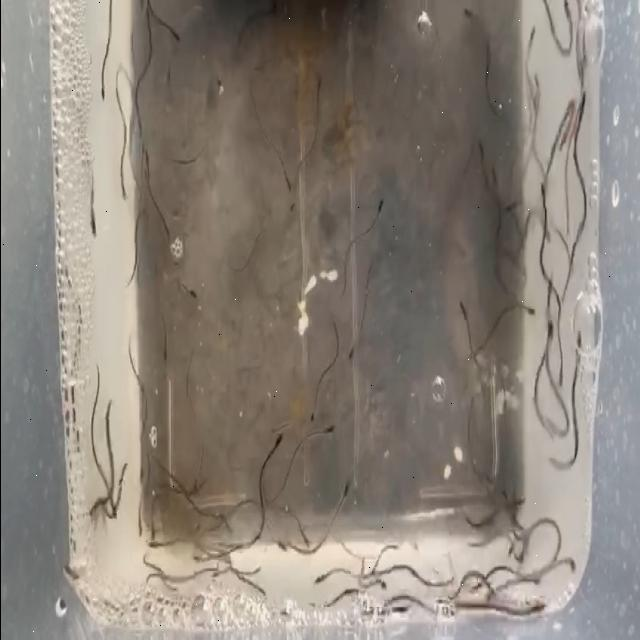inactive_glass_eel: (150, 320, 174, 371), (86, 182, 105, 238), (552, 0, 574, 45), (571, 78, 586, 140), (143, 507, 161, 555), (280, 168, 302, 205), (501, 188, 522, 226), (296, 515, 314, 555), (453, 282, 469, 326), (471, 131, 488, 171), (182, 268, 198, 308), (374, 570, 394, 602), (320, 397, 332, 448), (300, 388, 314, 430), (334, 466, 347, 511), (538, 171, 548, 228), (115, 175, 131, 208), (576, 326, 586, 378), (374, 187, 386, 229), (345, 334, 357, 375), (457, 8, 481, 28), (309, 569, 331, 590), (272, 438, 286, 470), (524, 302, 538, 334), (528, 596, 548, 618), (442, 581, 456, 611), (96, 84, 110, 112), (172, 32, 190, 48), (89, 502, 103, 520), (564, 560, 574, 585), (136, 504, 142, 539), (138, 458, 146, 484)
